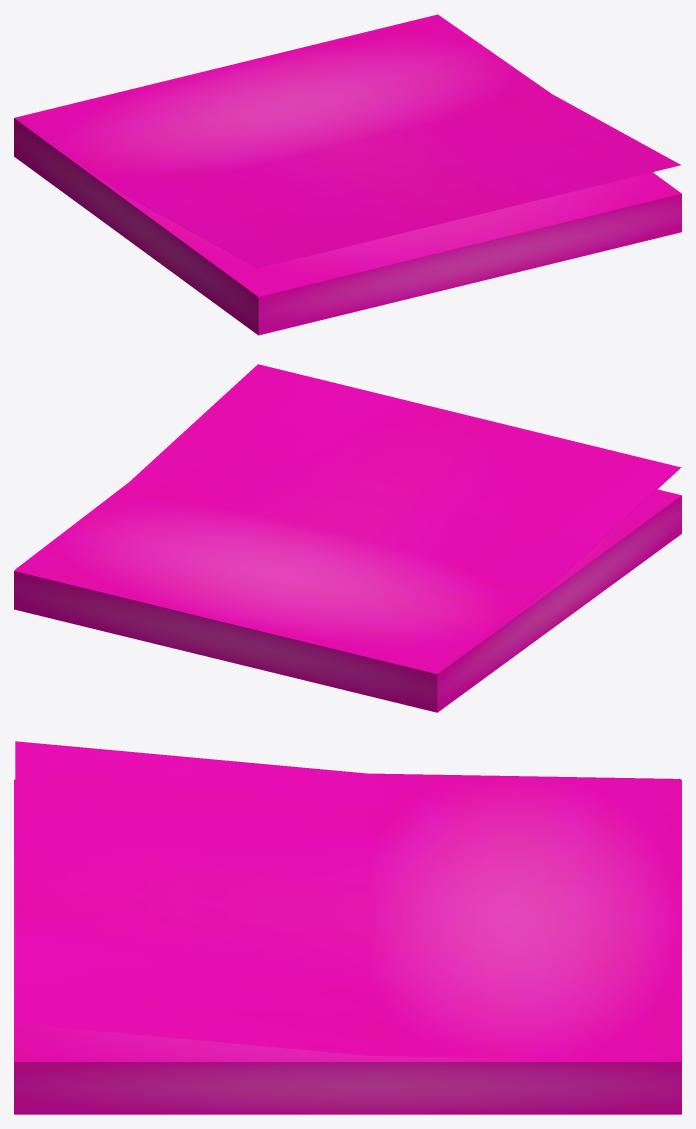
Rendered from Stickynotes_B.FBX.
3 renders of one model, top to bottom at view 1: azimuth 30°, elevation 25°; view 2: azimuth 150°, elevation 25°; view 3: azimuth 270°, elevation 25°, orthographic. The views are drawn at different scales.
Visible parts, largest first — view 1: Sticky_notes; view 2: Sticky_notes; view 3: Sticky_notes.
Boxes of the visible parts, box(x1,y1,x2,y2) form: Sticky_notes: box(14, 14, 681, 335); Sticky_notes: box(14, 364, 681, 712); Sticky_notes: box(14, 741, 681, 1114).
Size of the model in its own units: 23 by 3.46 by 23.
